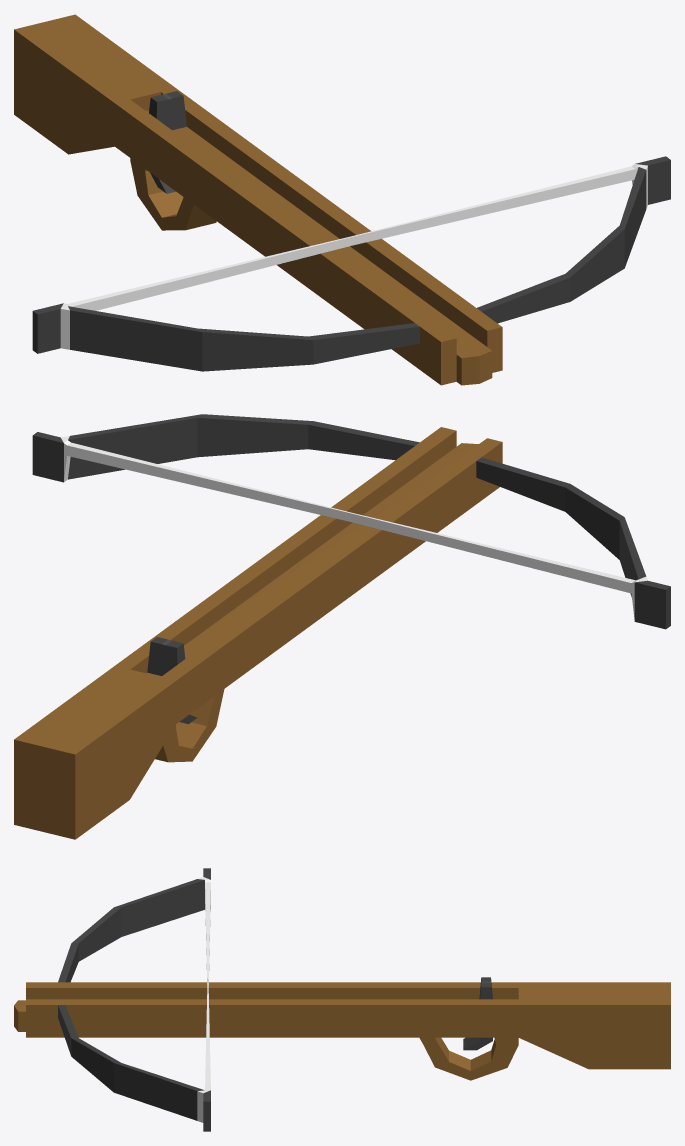
File: Crossbow.fbx
3 views of the same model, one above another, from view 1: azimuth 30°, elevation 25°; view 2: azimuth 150°, elevation 25°; view 3: azimuth 270°, elevation 25° (orthographic). The views are drawn at different scales.
Visible parts, largest first — view 1: Crossbow; view 2: Crossbow; view 3: Crossbow.
Boxes of the visible parts, left/top/right/bottom form: Crossbow: left=14, top=14, right=670, bottom=385; Crossbow: left=14, top=414, right=670, bottom=839; Crossbow: left=14, top=868, right=670, bottom=1131.
Size of the model in its own units: 0.7471 by 0.1385 by 0.8889.
